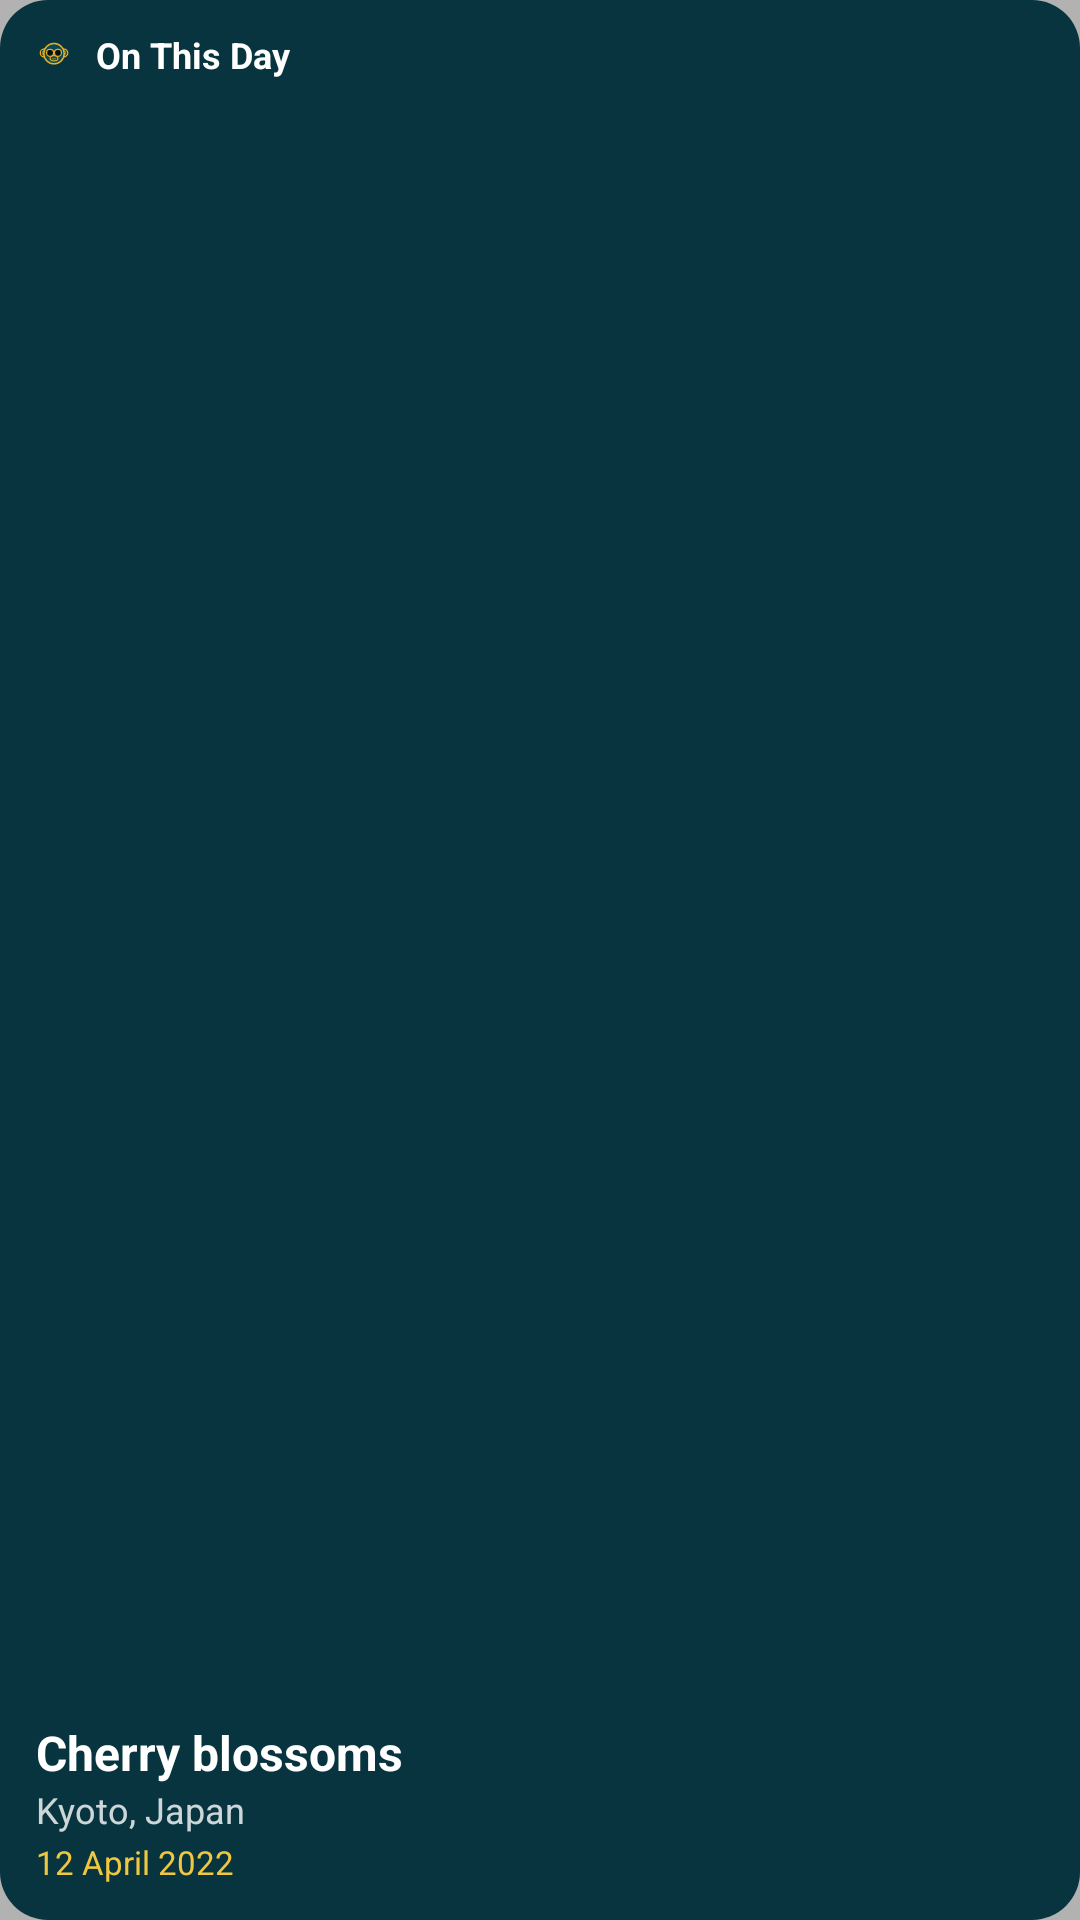

Screen size 1080w x 1920h. Icon name, then its box in pixels as (x1, y1, x2, y2):
macaco widget mark: (39, 42, 69, 65)
